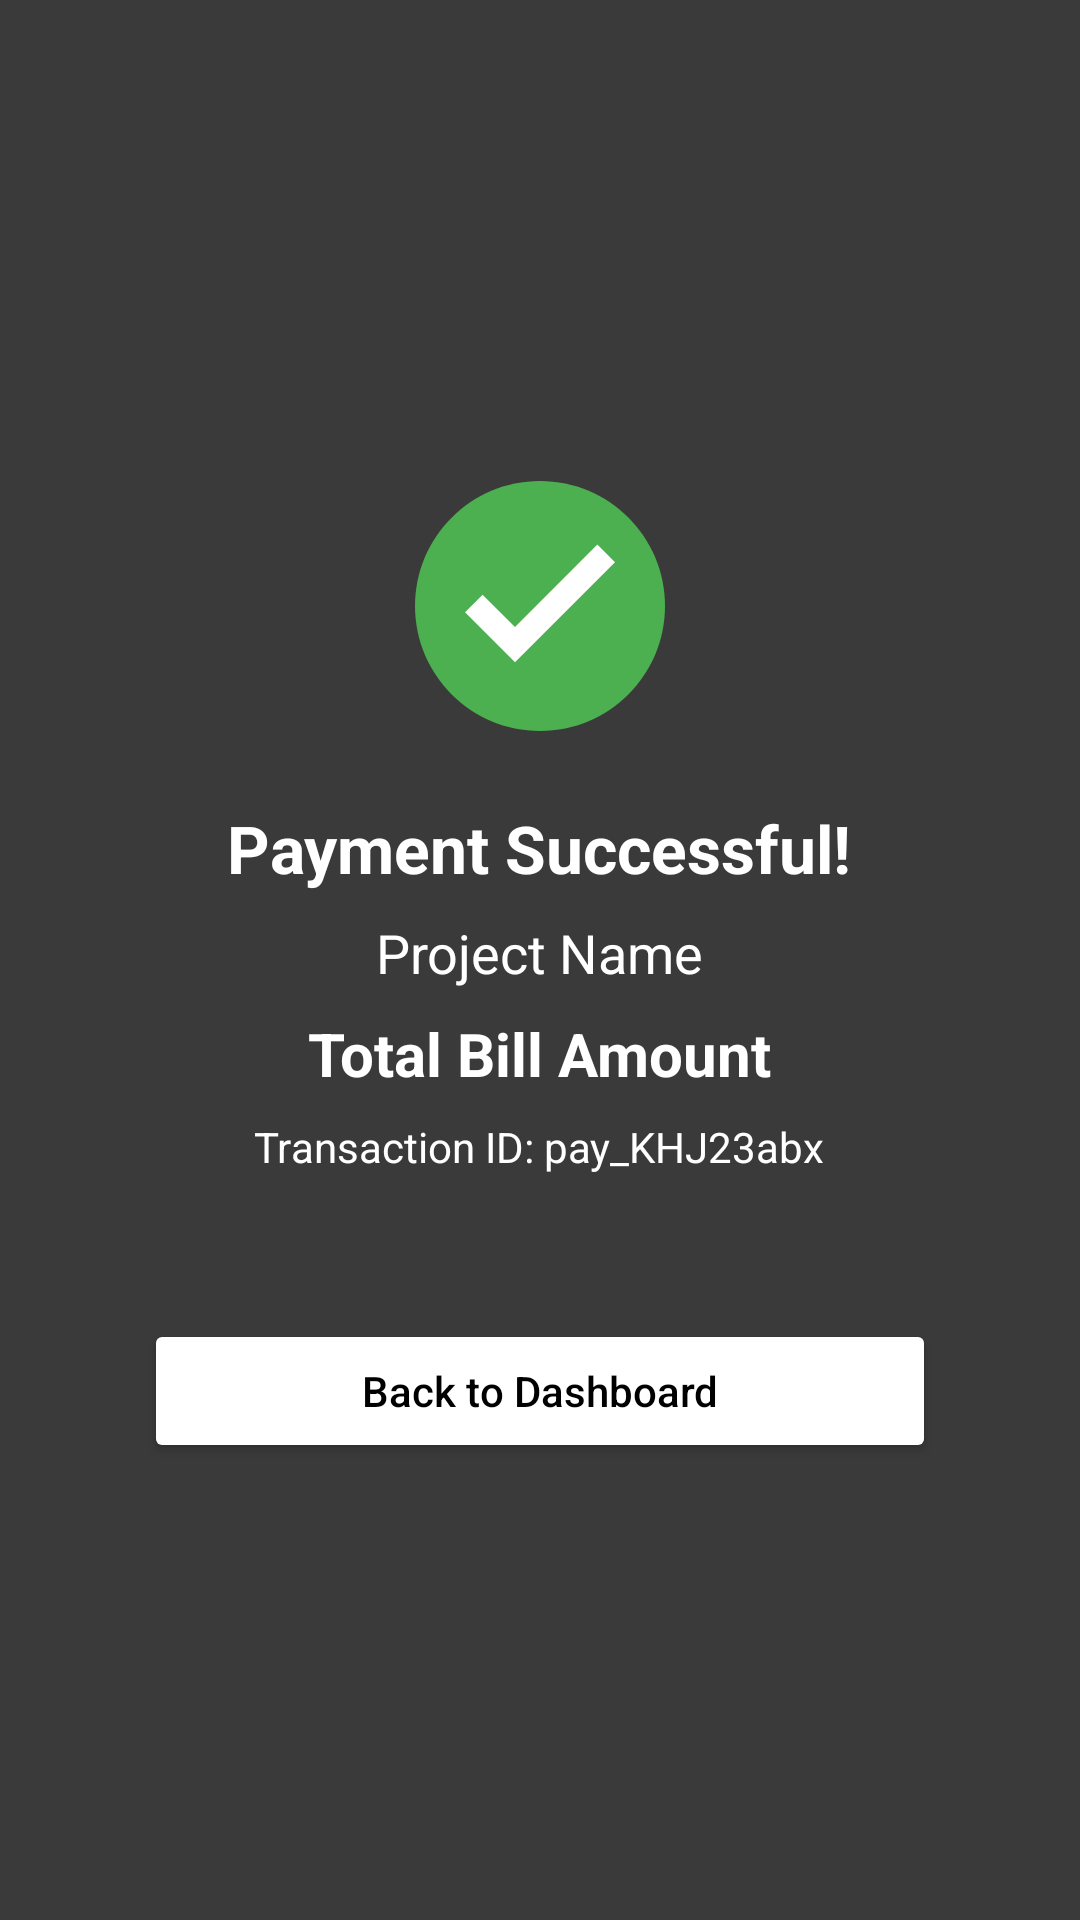

Screen size 1080x1920. Icon name, then its box in pixels as (x1, y1, x2, y2):
Success Icon: (415, 481, 665, 731)
